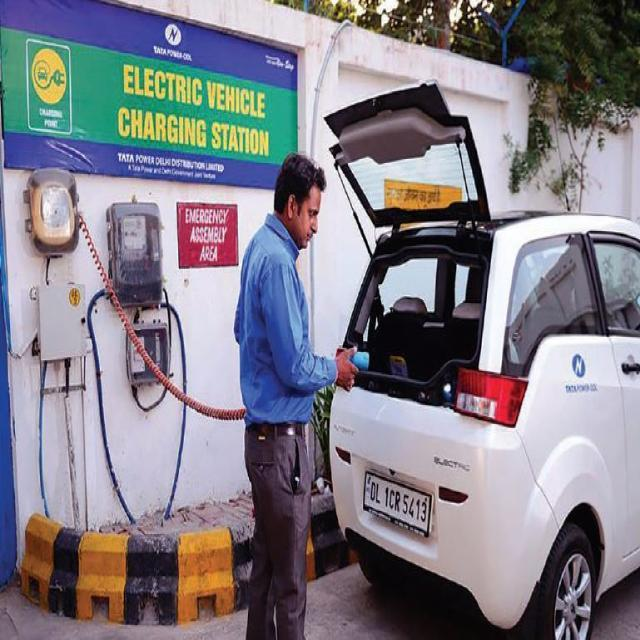plate: (361, 470, 433, 537)
